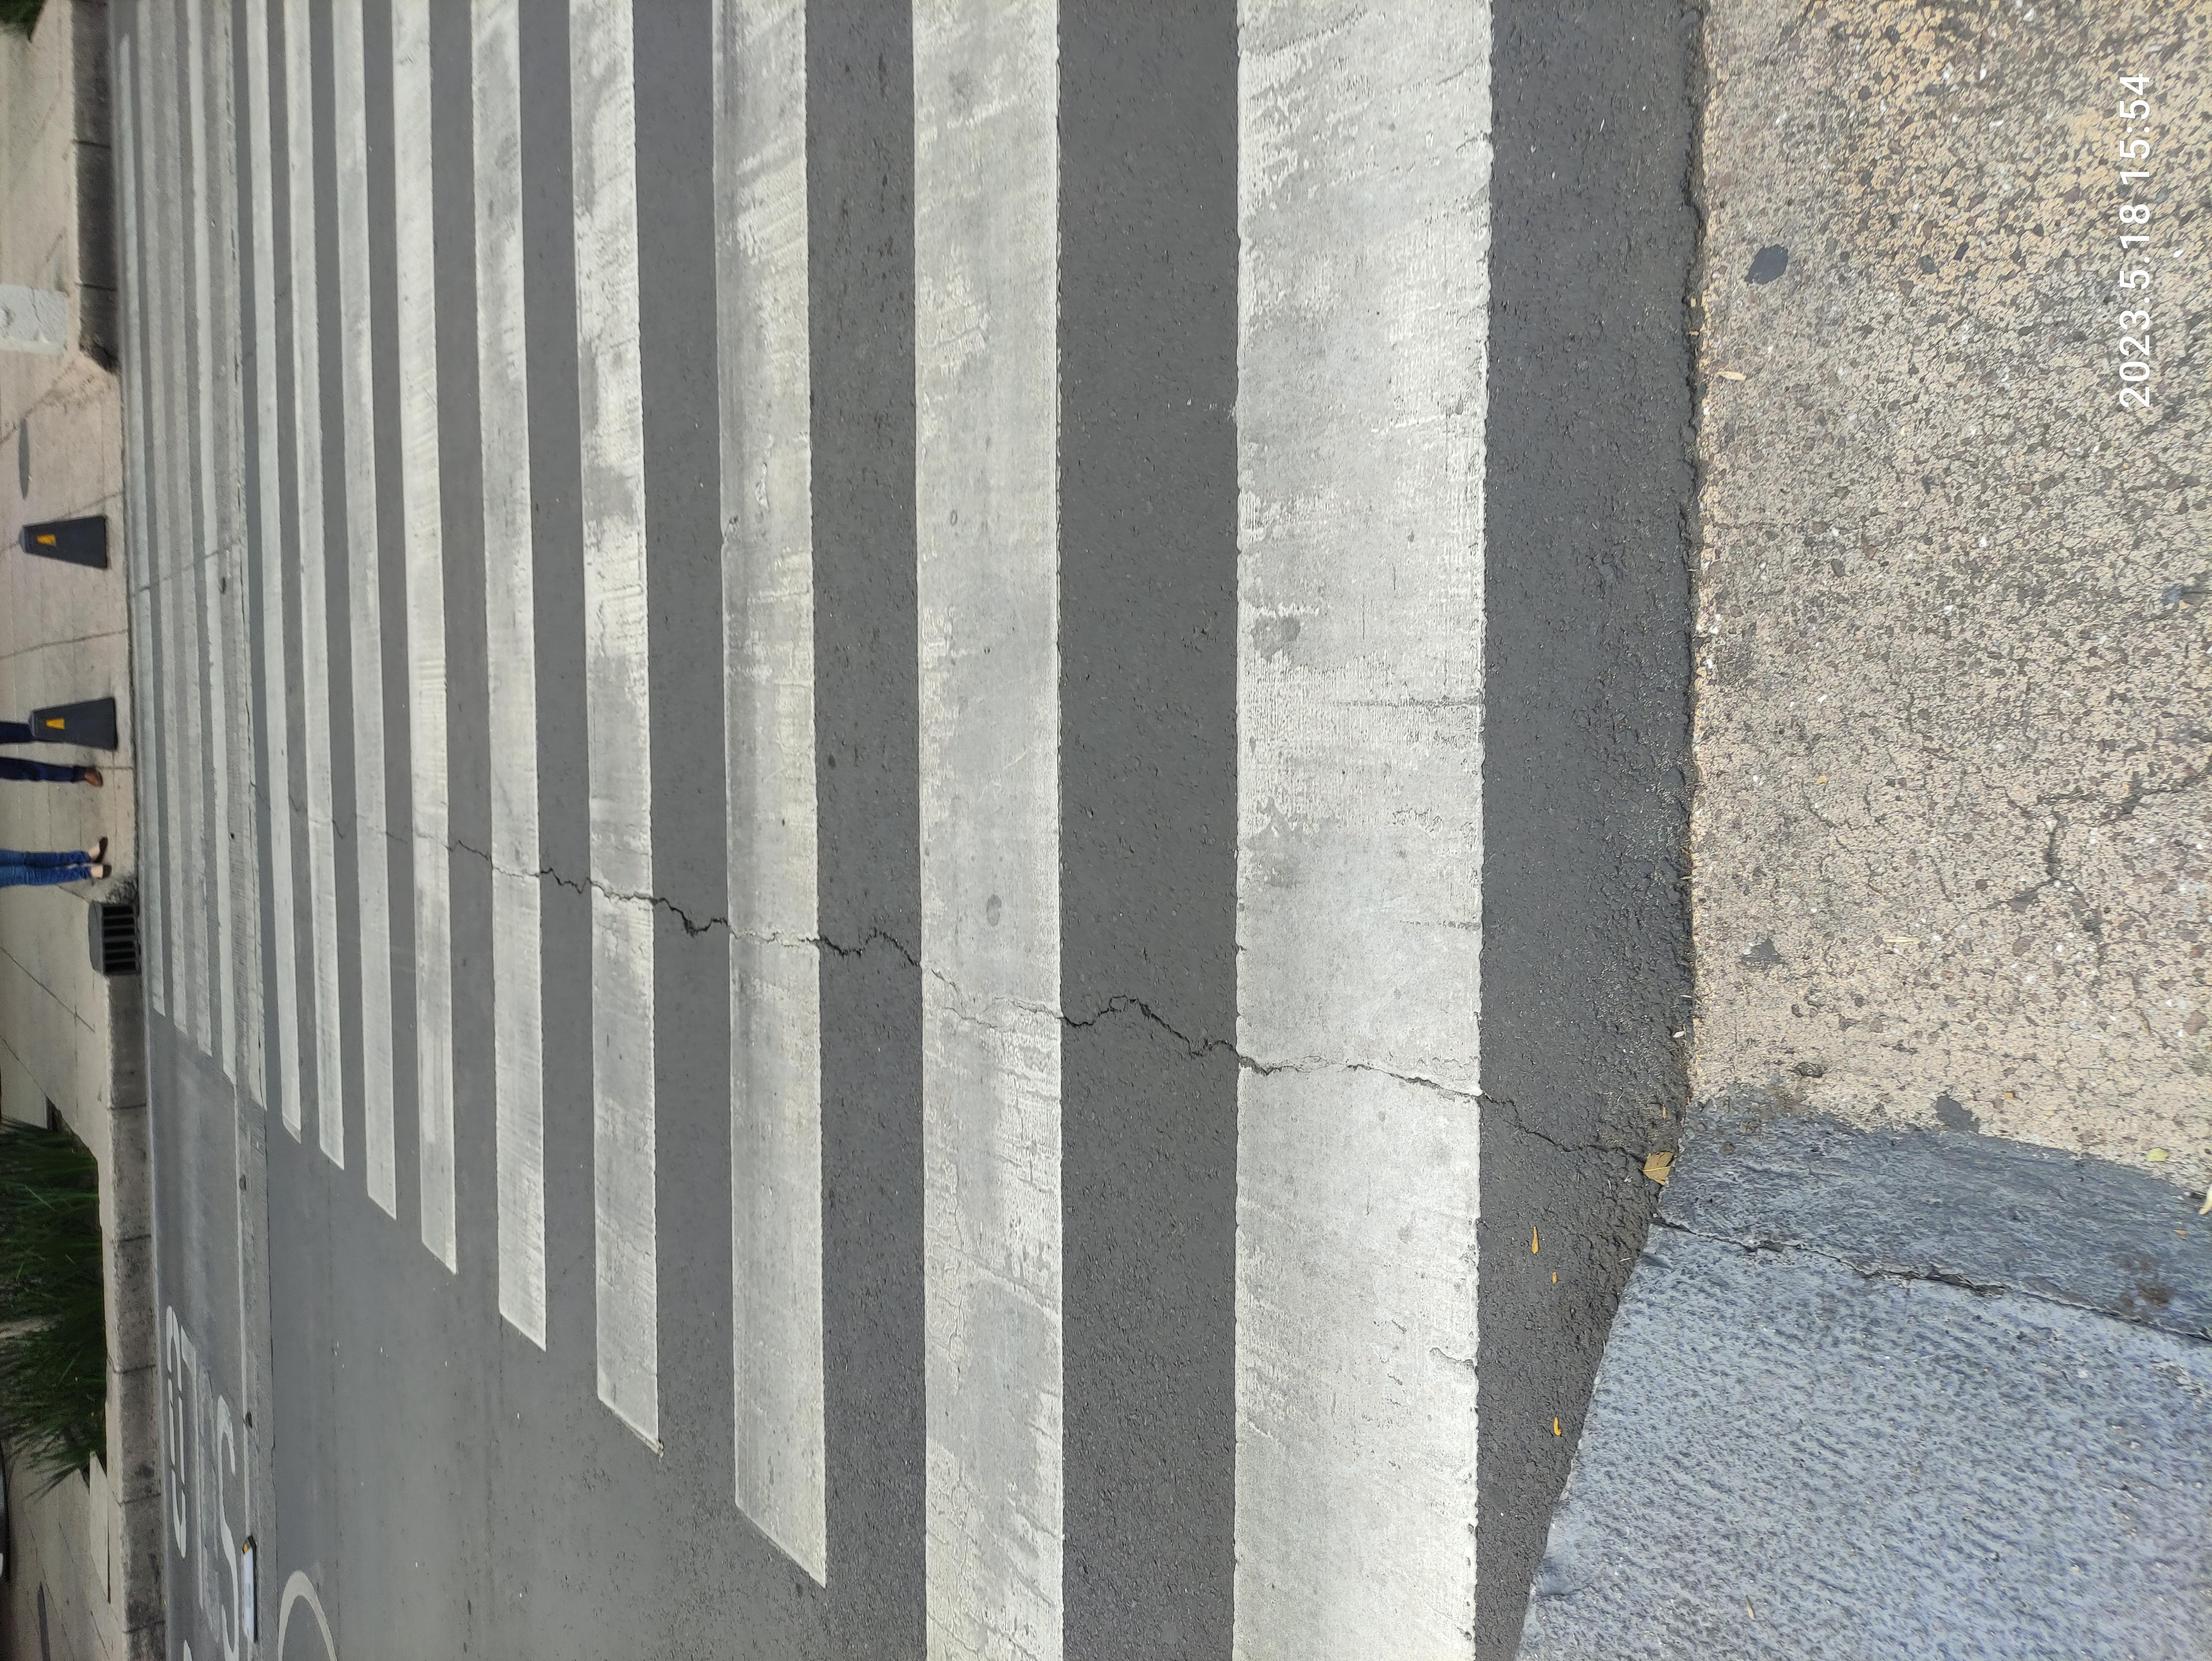crack: (657, 237, 1123, 1259)
